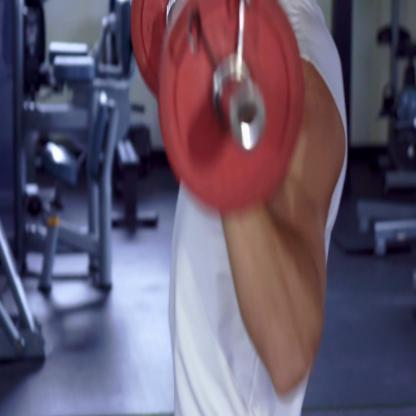Barbell: (230, 78, 270, 159)
